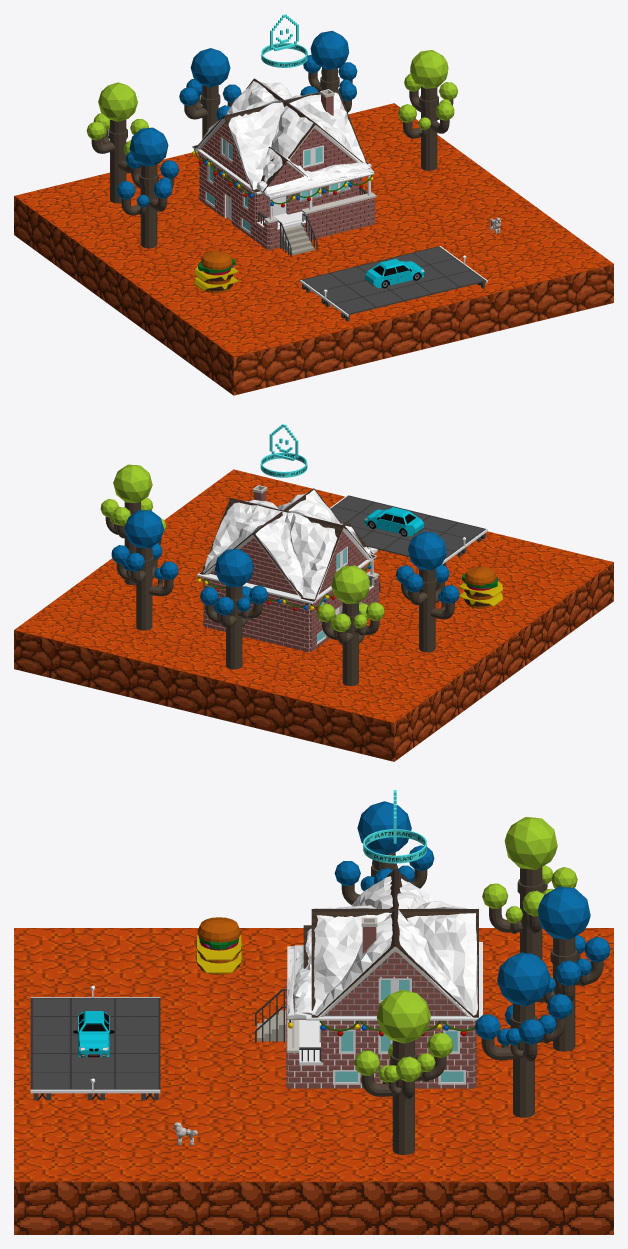
3 views of the same model, one above another, from view 1: azimuth 30°, elevation 25°; view 2: azimuth 150°, elevation 25°; view 3: azimuth 270°, elevation 25° (orthographic). The views are drawn at different scales.
Visible parts, largest first — view 1: Cube.001, Cube.1419, OBJRANDOM_HAMBURGER, VEHICLES_CAR, TYPE_PREMIUM; view 2: Cube.001, Cube.1419, OBJRANDOM_HAMBURGER, VEHICLES_CAR, TYPE_PREMIUM; view 3: Cube.001, Cube.1419, OBJRANDOM_HAMBURGER, VEHICLES_CAR, TYPE_PREMIUM.
Boxes of the visible parts, bbox=[...] form: Cube.001: bbox=[14, 30, 613, 395]; Cube.1419: bbox=[192, 78, 376, 256]; OBJRANDOM_HAMBURGER: bbox=[194, 251, 239, 293]; VEHICLES_CAR: bbox=[364, 258, 424, 288]; TYPE_PREMIUM: bbox=[261, 14, 307, 67]; Cube.001: bbox=[14, 464, 613, 761]; Cube.1419: bbox=[197, 485, 380, 652]; OBJRANDOM_HAMBURGER: bbox=[458, 566, 502, 608]; VEHICLES_CAR: bbox=[364, 507, 424, 536]; TYPE_PREMIUM: bbox=[260, 424, 307, 477]; Cube.001: bbox=[14, 801, 613, 1234]; Cube.1419: bbox=[255, 869, 483, 1088]; OBJRANDOM_HAMBURGER: bbox=[195, 917, 242, 974]; VEHICLES_CAR: bbox=[73, 1011, 114, 1057]; TYPE_PREMIUM: bbox=[363, 790, 426, 863].
Size of the model in its own units: 4000 by 2418 by 4000.
Materials: 44 (5 with a texture image).
